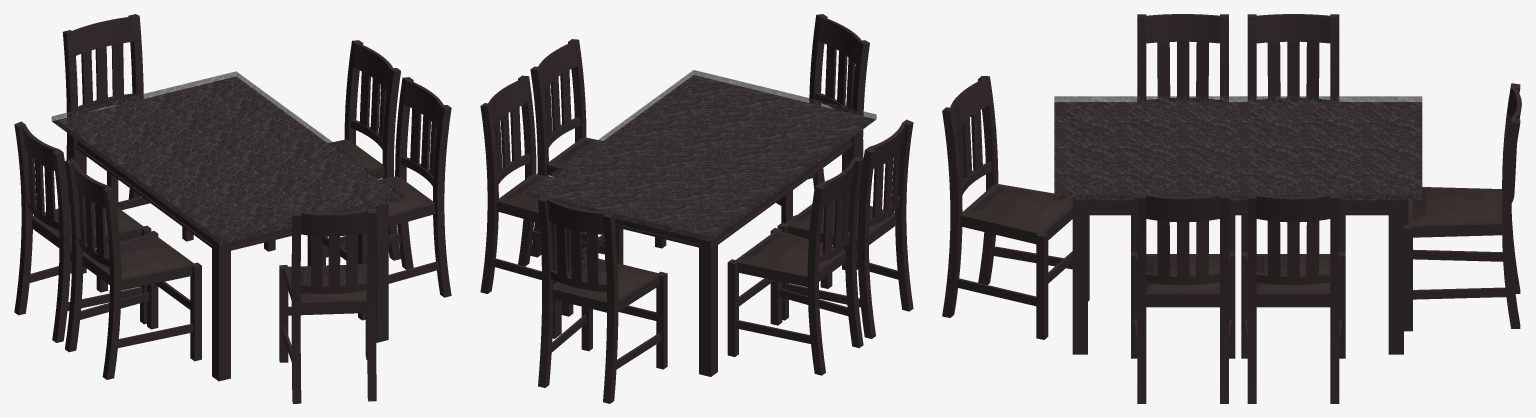
File: MesaComedor4.fbx
The picture shows the model from 3 angles, left to right: view 1: azimuth 30°, elevation 25°; view 2: azimuth 150°, elevation 25°; view 3: azimuth 270°, elevation 25°; orthographic projection. The views are drawn at different scales.
Visible parts, largest first — view 1: Group5, Group7, Group8, Group2, Group6, Group3, Group4; view 2: Group5, Group3, Group6, Group7, Group4, Group2, Group8; view 3: Group5, Group8, Group4, Group2, Group3, Group6, Group7.
Part boxes in pixels (bbox=[...]): Group5: bbox=[51, 71, 404, 381]; Group7: bbox=[65, 158, 201, 379]; Group8: bbox=[279, 208, 376, 403]; Group2: bbox=[322, 77, 451, 320]; Group6: bbox=[14, 121, 151, 342]; Group3: bbox=[62, 14, 193, 241]; Group4: bbox=[264, 40, 400, 265]; Group5: bbox=[527, 70, 876, 376]; Group3: bbox=[538, 196, 667, 403]; Group6: bbox=[727, 156, 863, 375]; Group7: bbox=[777, 119, 913, 338]; Group4: bbox=[480, 75, 616, 316]; Group2: bbox=[530, 39, 666, 264]; Group8: bbox=[776, 14, 869, 223]; Group5: bbox=[1054, 96, 1422, 354]; Group8: bbox=[942, 76, 1089, 339]; Group4: bbox=[1241, 193, 1345, 403]; Group2: bbox=[1131, 193, 1235, 403]; Group3: bbox=[1404, 83, 1521, 331]; Group6: bbox=[1241, 14, 1345, 251]; Group7: bbox=[1131, 14, 1235, 251].
Bounding box in the file's own units: 71.51 × 37.22 × 94.58.
